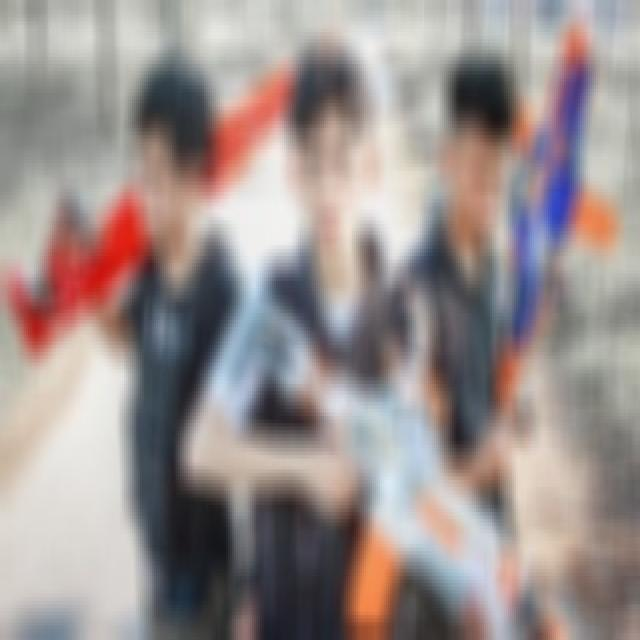Nerf gun: (219, 304, 569, 635), (6, 53, 314, 352), (490, 18, 622, 444)
